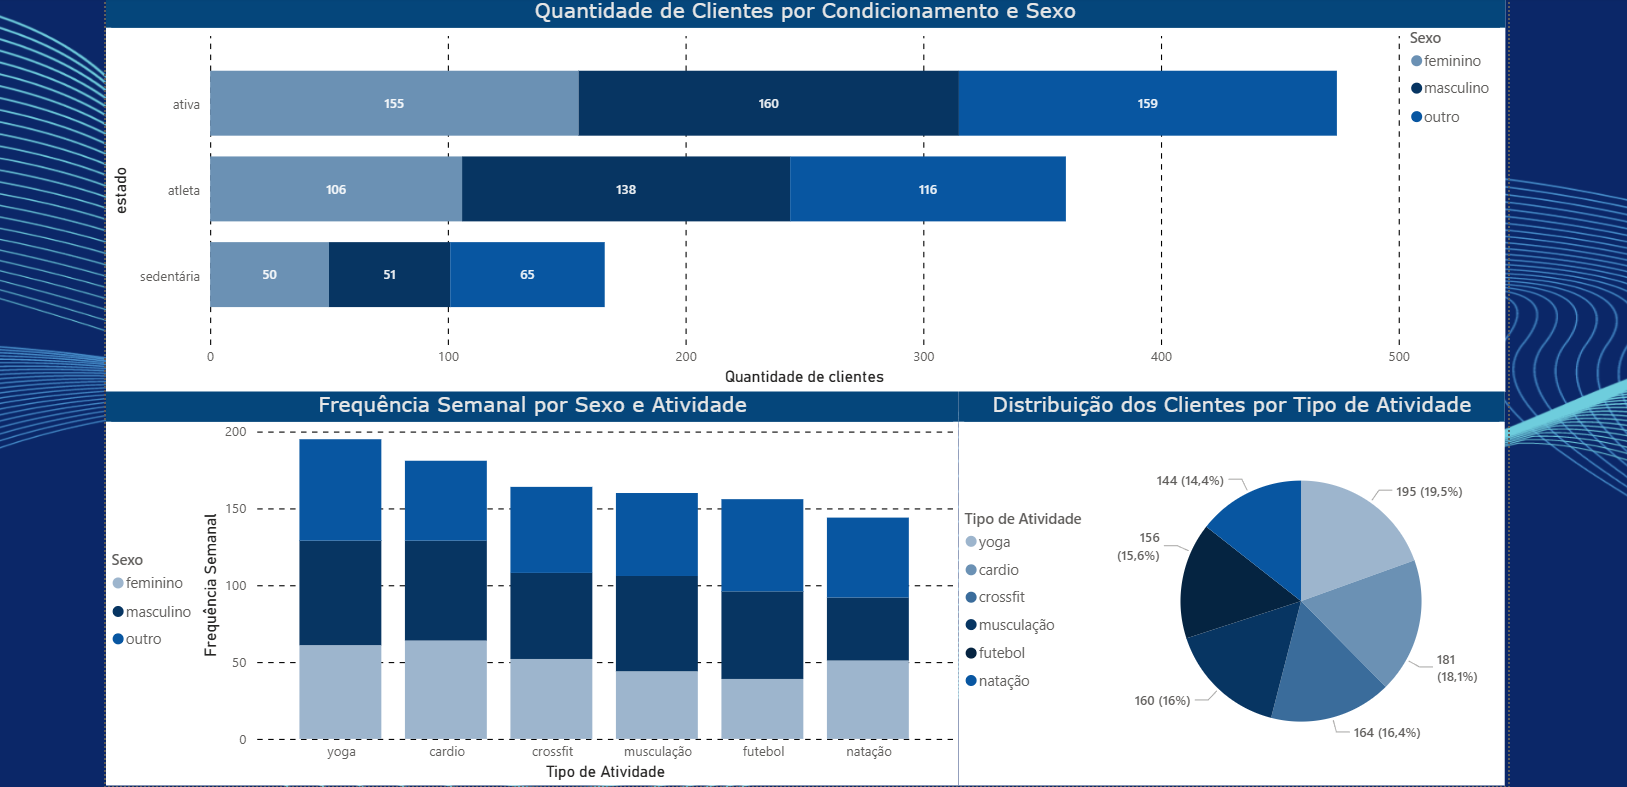

What the dashboard file says about the page in this screenshot:
{"tool":"powerbi","page":{"name":"Página 1","canvas":[1280,720],"ordinal":0},"visuals":[{"type":"pieChart","title":"Distribuição dos Clientes por Tipo de Atividade","fields":{"Category":["academia_tratado (3).tipo_atividade"],"Y":["CountNonNull(academia_tratado (3).idade)"]},"box":[778.4,359.5,498.3,360.5],"z":0},{"type":"columnChart","title":"Frequência Semanal por Sexo e Atividade","fields":{"Category":["academia_tratado (3).tipo_atividade"],"Y":["CountNonNull(academia_tratado (3).frequencia_semanal_treino)"],"Series":["academia_tratado (3).sexo"]},"box":[0,359.5,778.4,360.5],"z":1000},{"type":"barChart","title":"Quantidade de Clientes por Condicionamento e Sexo","fields":{"Series":["academia_tratado (3).sexo"],"Category":["academia_tratado (3).estado"],"Y":["CountNonNull(academia_tratado (3).idade)"]},"box":[0,0,1276.7,359.5],"z":2000}]}

Visuals, with their boxes on the page's 1280x720 design canvas (x1, y1, x2, y2). These are canvas units, not pixel positions in the 1627x787 screenshot, which may show the page scaled, cropped or inside an application window:
"Distribuição dos Clientes por Tipo de Atividade" pieChart: [778,360,1277,720]
"Frequência Semanal por Sexo e Atividade" columnChart: [0,360,778,720]
"Quantidade de Clientes por Condicionamento e Sexo" barChart: [0,0,1277,360]
